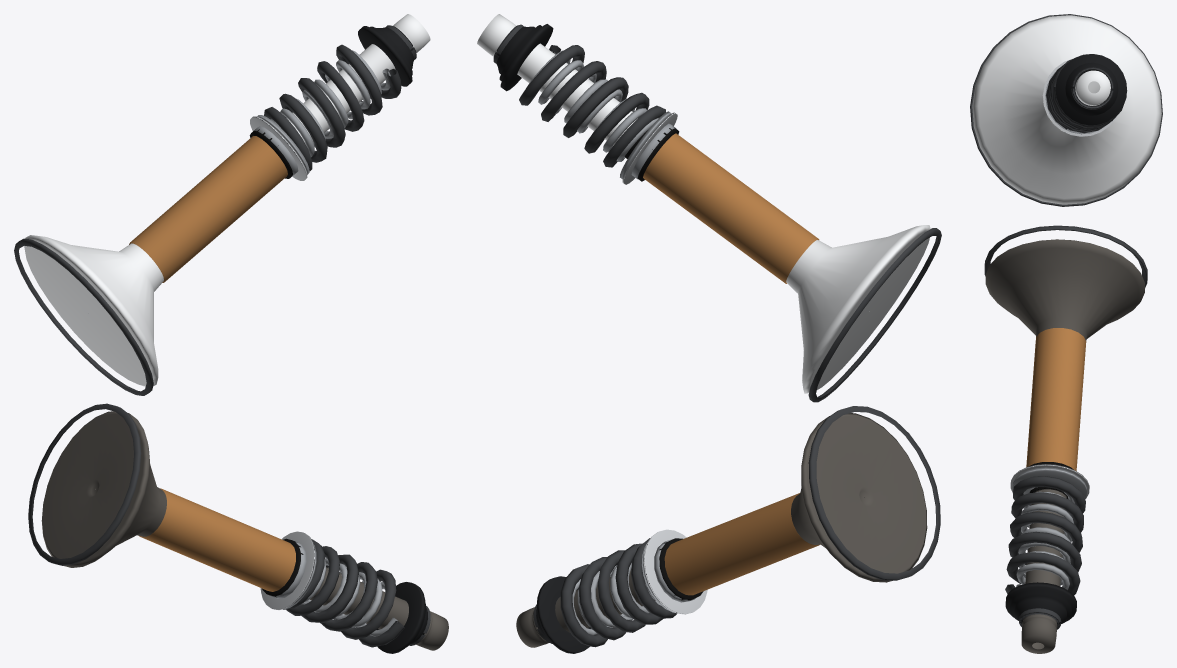
File: valve-set-4.glb
3 renders of one model, left to right at view 1: azimuth 30°, elevation 25°; view 2: azimuth 150°, elevation 25°; view 3: azimuth 270°, elevation 25°, orthographic. The views are drawn at different scales.
Parts seen in each view (by area): view 1: valve-set-4:bronze, valve-set-4:darkSteel, valve-set-4:heatSteel, valve-set-4:chrome, valve-set-4:steel, valve-set-4:satinBlack, valve-set-4:polishedSteel, valve-set-4:rubber; view 2: valve-set-4:bronze, valve-set-4:darkSteel, valve-set-4:heatSteel, valve-set-4:chrome, valve-set-4:steel, valve-set-4:satinBlack, valve-set-4:polishedSteel, valve-set-4:rubber; view 3: valve-set-4:chrome, valve-set-4:heatSteel, valve-set-4:darkSteel, valve-set-4:bronze, valve-set-4:satinBlack, valve-set-4:steel, valve-set-4:polishedSteel.
Boxes of the visible parts, <box> form: valve-set-4:bronze: <box>129,136,295,591</box>; valve-set-4:darkSteel: <box>14,25,430,647</box>; valve-set-4:heatSteel: <box>41,411,448,650</box>; valve-set-4:chrome: <box>24,14,430,386</box>; valve-set-4:steel: <box>254,50,397,636</box>; valve-set-4:satinBlack: <box>358,26,427,653</box>; valve-set-4:polishedSteel: <box>250,116,315,609</box>; valve-set-4:rubber: <box>249,129,303,597</box>; valve-set-4:bronze: <box>643,133,820,595</box>; valve-set-4:darkSteel: <box>493,24,941,647</box>; valve-set-4:heatSteel: <box>516,413,927,647</box>; valve-set-4:chrome: <box>477,14,930,393</box>; valve-set-4:steel: <box>526,50,695,635</box>; valve-set-4:satinBlack: <box>496,24,590,653</box>; valve-set-4:polishedSteel: <box>622,112,707,614</box>; valve-set-4:rubber: <box>624,127,703,600</box>; valve-set-4:chrome: <box>972,15,1161,204</box>; valve-set-4:heatSteel: <box>985,239,1144,653</box>; valve-set-4:darkSteel: <box>970,14,1162,629</box>; valve-set-4:bronze: <box>1026,328,1086,470</box>; valve-set-4:satinBlack: <box>1005,54,1127,625</box>; valve-set-4:steel: <box>1012,68,1107,590</box>; valve-set-4:polishedSteel: <box>1010,58,1116,498</box>.
Bounding box in the file's own units: 114 × 167 × 49.5.
